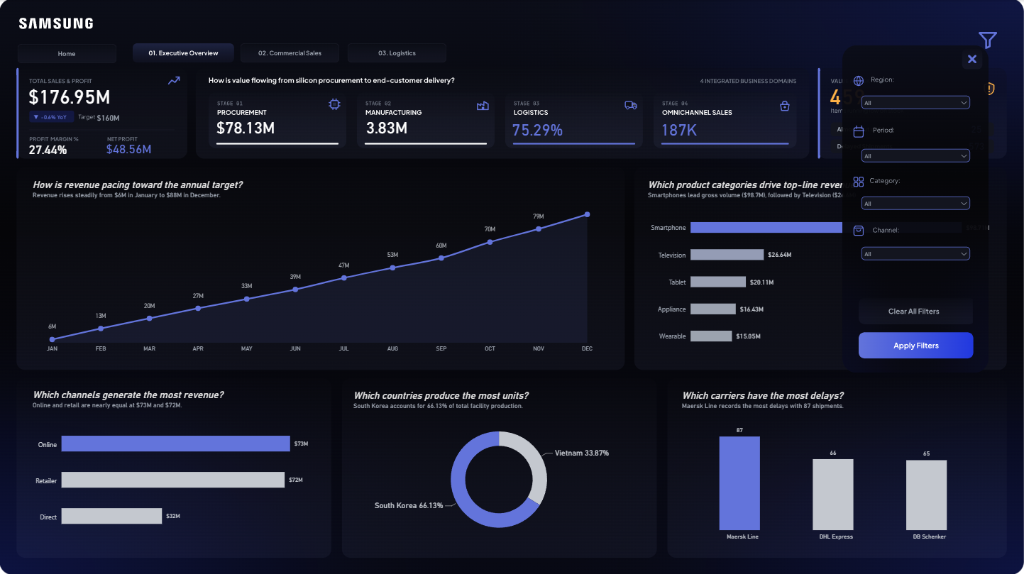

The dashboard page shown, as its layout file describes it:
{"tool":"powerbi","page":{"name":"01. Executive Overview","canvas":[1920,1080],"ordinal":1},"visuals":[{"type":"card","fields":{"Values":["_Measures.Total Net Revenue"]},"box":[37.3,141.8,188.2,76.4],"z":0,"group":"g1"},{"type":"lineChart","title":"How is revenue pacing toward the annual target?","fields":{"Category":["dim_date.short_month_name"],"Y":["_Measures.Cumulative Net Revenue"]},"box":[46.6,321.9,1107.9,356.5],"z":0},{"type":"card","fields":{"Values":["_Measures.Total Net Profit"]},"box":[181.9,250,120.9,60],"z":1000,"group":"g1"},{"type":"barChart","title":"Which product categories drive top-line revenue?","fields":{"Category":["dim_product.category"],"Y":["_Measures.Total Net Revenue"]},"box":[1200,321.7,673.3,356.7],"z":1000},{"type":"card","fields":{"Values":["_Measures.Profit Margin %"]},"box":[37.1,253.5,107.6,56.5],"z":2000,"group":"g1"},{"type":"clusteredBarChart","title":"Which channels generate the most revenue?","fields":{"Category":["dim_customer.channel_type"],"Y":["_Measures.Total Net Revenue"]},"box":[46,716,554,314],"z":2000},{"type":"card","fields":{"Values":["_Measures.Revenue Target"]},"box":[166.7,196.6,75.8,43.3],"z":3000,"group":"g1"},{"type":"donutChart","title":"Which countries produce the most units?","fields":{"Category":["dim_facility.country"],"Y":["_Measures.Facility Production Quantity"]},"box":[647.5,716.2,577.5,313.8],"z":3000},{"type":"columnChart","title":"Which carriers have the most delays?","fields":{"Category":["fact_shipment.carrier"],"Y":["_Measures.Total Delayed Shipments"]},"box":[1263.8,716.2,610,313.8],"z":4000},{"type":"group","id":"g1","title":"KPI","box":[37.1,141.4,1836.3,168.6],"z":5000},{"type":"card","fields":{"Values":["_Measures.Procurement Spend"]},"box":[382.9,207.1,157.1,64.3],"z":5000,"group":"g1"},{"type":"image","box":[1831.4,60,43.3,32.2],"z":6000},{"type":"card","fields":{"Values":["_Measures.Total Units Produced"]},"box":[647.2,207.1,157.1,64.3],"z":6000,"group":"g1"},{"type":"card","fields":{"Values":["_Measures.On-Time Delivery %"]},"box":[941.2,206.6,133.3,73.3],"z":7000,"group":"g1"},{"type":"card","fields":{"Values":["_Measures.YoY Growth %"]},"box":[45.8,196.7,98.3,42.5],"z":8000},{"type":"card","fields":{"Values":["_Measures.Total Units Sold"]},"box":[1216,210,116,64],"z":8000,"group":"g1"},{"type":"image","box":[32,82,190,36],"z":9000,"group":"g2"},{"type":"card","fields":{"Values":["_Measures.Low Stock Alerts Count"]},"box":[1538.6,141.4,101.4,75.7],"z":9000,"group":"g1"},{"type":"image","box":[250,81,190,36],"z":10000,"group":"g2"},{"type":"card","fields":{"Values":["_Measures.Critical Stockout Products Count"]},"box":[1788.4,218.3,85,51.2],"z":10000,"group":"g1"},{"type":"image","box":[450,81,190,36],"z":11000,"group":"g2"},{"type":"card","fields":{"Values":["_Measures.Total Delayed Shipments"]},"box":[1788.4,250,85,51.2],"z":11000,"group":"g1"},{"type":"image","box":[650,81.4,190,36],"z":12000,"group":"g2"},{"type":"group","id":"g2","title":"Nav overview","box":[32,81,808,37],"z":12001}]}

Visuals, with their boxes in screenshot pixels (x1, y1, x2, y2), scaled from the page's 1920x1080 canvas onto the 1024x574 screenshot:
card - _Measures.Total Net Revenue: bbox(20, 75, 120, 116)
"How is revenue pacing toward the annual target?" lineChart: bbox(25, 171, 616, 361)
card - _Measures.Total Net Profit: bbox(97, 133, 161, 165)
"Which product categories drive top-line revenue?" barChart: bbox(640, 171, 999, 361)
card - _Measures.Profit Margin %: bbox(20, 135, 77, 165)
"Which channels generate the most revenue?" clusteredBarChart: bbox(25, 381, 320, 547)
card - _Measures.Revenue Target: bbox(89, 104, 129, 128)
"Which countries produce the most units?" donutChart: bbox(345, 381, 653, 547)
"Which carriers have the most delays?" columnChart: bbox(674, 381, 999, 547)
"KPI" group: bbox(20, 75, 999, 165)
card - _Measures.Procurement Spend: bbox(204, 110, 288, 144)
image: bbox(977, 32, 1000, 49)
card - _Measures.Total Units Produced: bbox(345, 110, 429, 144)
card - _Measures.On-Time Delivery %: bbox(502, 110, 573, 149)
card - _Measures.YoY Growth %: bbox(24, 105, 77, 127)
card - _Measures.Total Units Sold: bbox(649, 112, 710, 146)
image: bbox(17, 44, 118, 63)
card - _Measures.Low Stock Alerts Count: bbox(821, 75, 875, 115)
image: bbox(133, 43, 235, 62)
card - _Measures.Critical Stockout Products Count: bbox(954, 116, 999, 143)
image: bbox(240, 43, 341, 62)
card - _Measures.Total Delayed Shipments: bbox(954, 133, 999, 160)
image: bbox(347, 43, 448, 62)
"Nav overview" group: bbox(17, 43, 448, 63)
